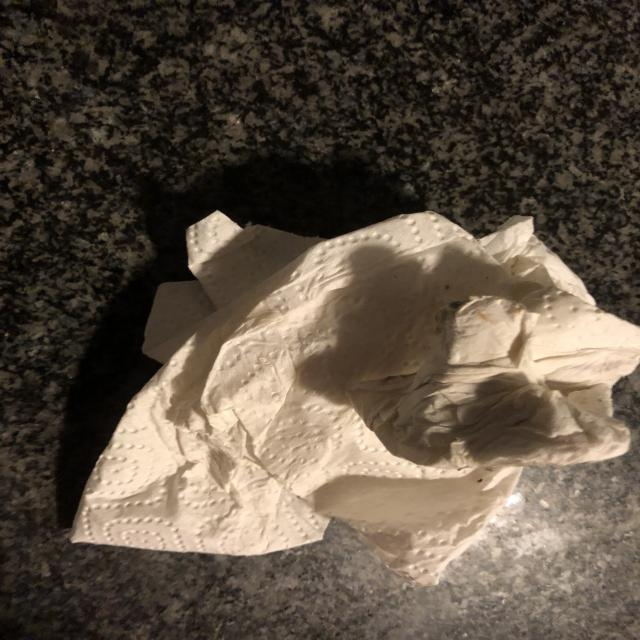kitchen paper: (51, 202, 640, 582)
